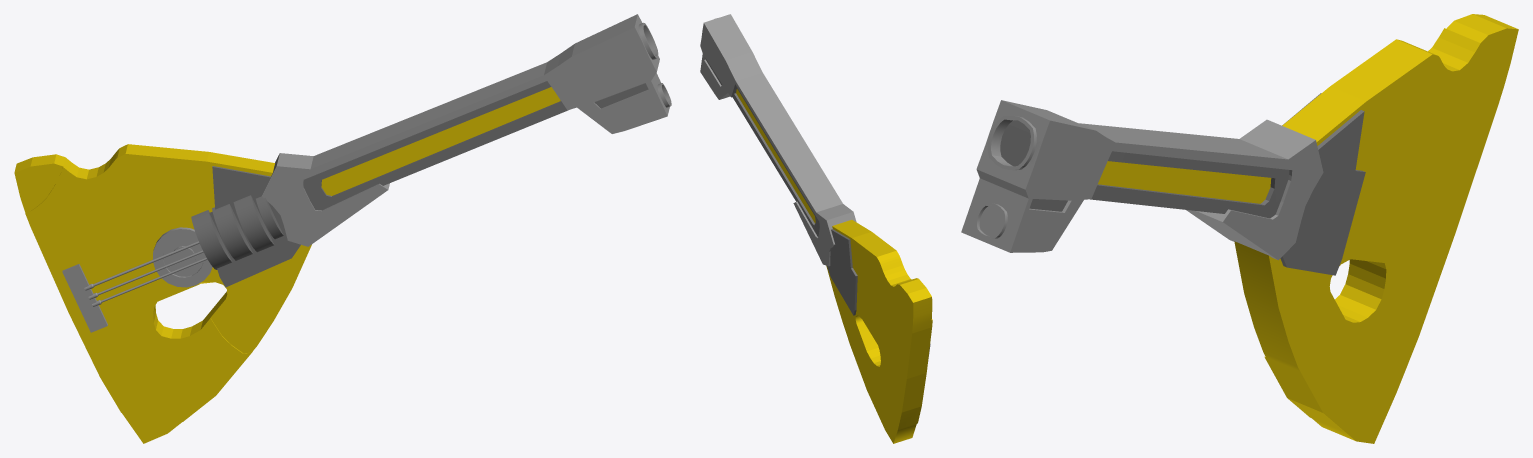
File: SM_Balalayzer_.fbx
The picture shows the model from 3 angles, left to right: view 1: azimuth 30°, elevation 25°; view 2: azimuth 150°, elevation 25°; view 3: azimuth 270°, elevation 25°; orthographic projection. The views are drawn at different scales.
Parts seen in each view (by area): view 1: Osnova, Nakladka_2, Nakladka, Otverstie, pCube1, pCylinder1, pCylinder2, pCylinder3; view 2: Osnova, Nakladka_2, Nakladka; view 3: Osnova, Nakladka_2, Nakladka, Dulo_1.
Part boxes in pixels (bbox=[...]): Osnova: bbox=[14, 87, 560, 443]; Nakladka_2: bbox=[261, 14, 669, 246]; Nakladka: bbox=[209, 81, 648, 287]; Otverstie: bbox=[152, 227, 212, 287]; pCube1: bbox=[62, 264, 107, 332]; pCylinder1: bbox=[191, 210, 232, 269]; pCylinder2: bbox=[212, 204, 252, 260]; pCylinder3: bbox=[233, 195, 273, 252]; Osnova: bbox=[736, 89, 932, 443]; Nakladka_2: bbox=[700, 14, 856, 266]; Nakladka: bbox=[705, 58, 857, 315]; Osnova: bbox=[1098, 14, 1518, 443]; Nakladka_2: bbox=[961, 100, 1323, 260]; Nakladka: bbox=[1000, 93, 1365, 275]; Dulo_1: bbox=[987, 115, 1036, 170].
Bounding box in the file's own units: 33.52 × 27.21 × 23.21.
